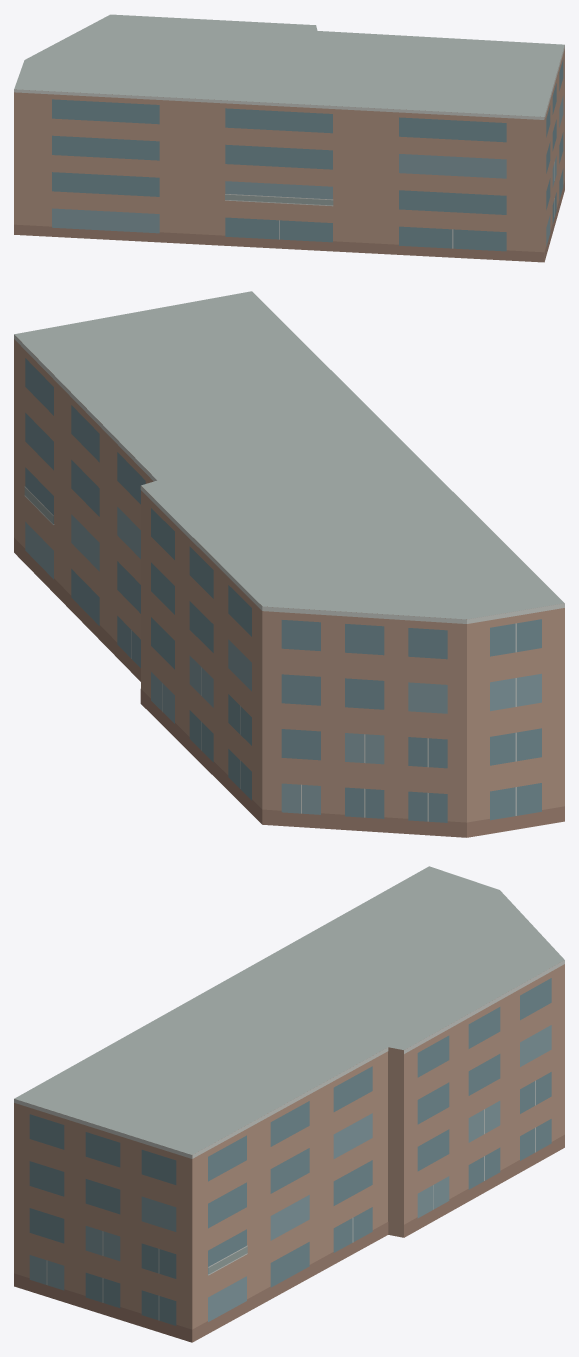
Rendered from survey-upis-32936102.glb.
The picture shows the model from 3 angles, top to bottom: view 1: azimuth 30°, elevation 25°; view 2: azimuth 150°, elevation 25°; view 3: azimuth 270°, elevation 25°; orthographic projection. The views are drawn at different scales.
Visible parts, largest first — view 1: survey-upis-32936102.tmp; view 2: survey-upis-32936102.tmp; view 3: survey-upis-32936102.tmp.
Part boxes in pixels (bbox=[...]): survey-upis-32936102.tmp: bbox=[14, 14, 564, 262]; survey-upis-32936102.tmp: bbox=[14, 291, 564, 837]; survey-upis-32936102.tmp: bbox=[14, 866, 564, 1342].
Size of the model in its own units: 37.98 by 11.5 by 30.61.
